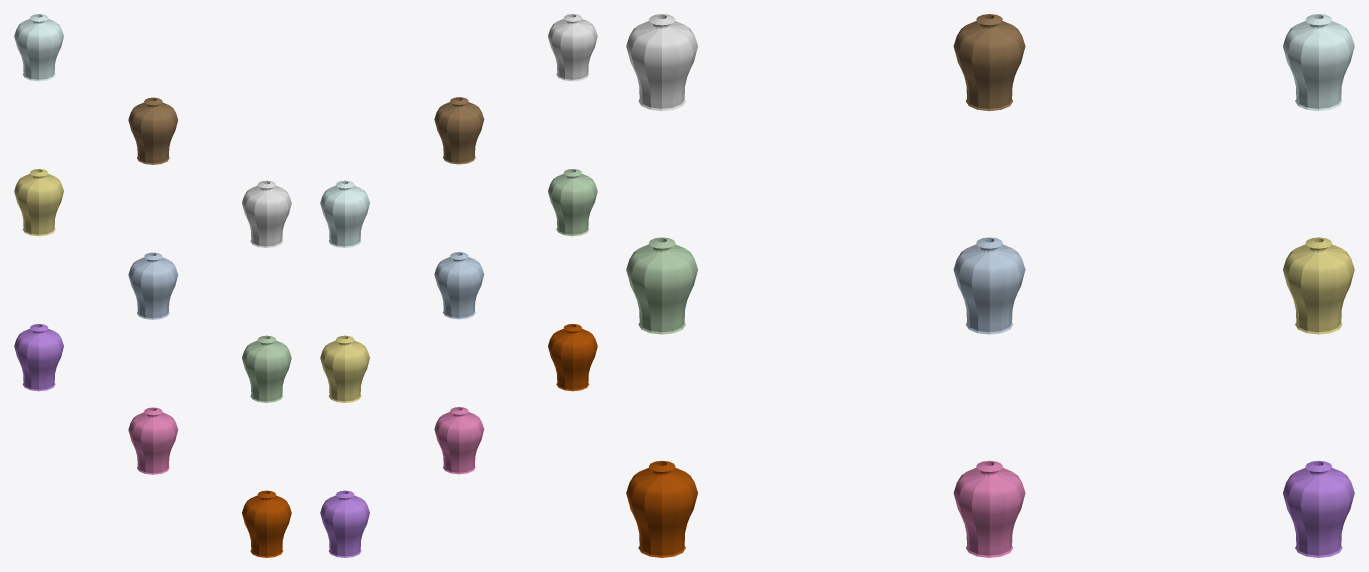
Rendered from vase_8.fbx.
3 renders of one model, left to right at view 1: azimuth 30°, elevation 25°; view 2: azimuth 150°, elevation 25°; view 3: azimuth 270°, elevation 25°, orthographic. The views are drawn at different scales.
Parts seen in each view (by area): view 1: pCylinder166, pCylinder184, pCylinder175, pCylinder229, pCylinder238, pCylinder220, pCylinder193, pCylinder202, pCylinder211; view 2: pCylinder175, pCylinder166, pCylinder184, pCylinder202, pCylinder211, pCylinder193, pCylinder220, pCylinder229, pCylinder238; view 3: pCylinder166, pCylinder193, pCylinder220, pCylinder175, pCylinder184, pCylinder211, pCylinder238, pCylinder202, pCylinder229.
Boxes of the visible parts, left/top/right/bottom form: pCylinder166: left=128, top=252, right=178, bottom=319; pCylinder184: left=128, top=407, right=178, bottom=474; pCylinder175: left=128, top=97, right=177, bottom=164; pCylinder229: left=14, top=14, right=63, bottom=81; pCylinder238: left=14, top=324, right=63, bottom=391; pCylinder220: left=14, top=169, right=63, bottom=236; pCylinder193: left=242, top=335, right=291, bottom=402; pCylinder202: left=242, top=180, right=291, bottom=247; pCylinder211: left=242, top=490, right=291, bottom=557; pCylinder175: left=434, top=97, right=484, bottom=164; pCylinder166: left=434, top=252, right=484, bottom=319; pCylinder184: left=434, top=407, right=484, bottom=474; pCylinder202: left=548, top=14, right=597, bottom=81; pCylinder211: left=548, top=324, right=597, bottom=391; pCylinder193: left=548, top=169, right=597, bottom=236; pCylinder220: left=320, top=335, right=369, bottom=402; pCylinder229: left=320, top=180, right=369, bottom=247; pCylinder238: left=320, top=490, right=369, bottom=557; pCylinder166: left=953, top=237, right=1025, bottom=334; pCylinder193: left=626, top=237, right=697, bottom=334; pCylinder220: left=1283, top=237, right=1354, bottom=334; pCylinder175: left=953, top=14, right=1025, bottom=111; pCylinder184: left=953, top=460, right=1025, bottom=557; pCylinder211: left=626, top=460, right=697, bottom=557; pCylinder238: left=1283, top=460, right=1354, bottom=557; pCylinder202: left=626, top=14, right=697, bottom=111; pCylinder229: left=1283, top=14, right=1354, bottom=111.
Bounding box in the file's own units: 2.63 × 21.39 × 26.61.
